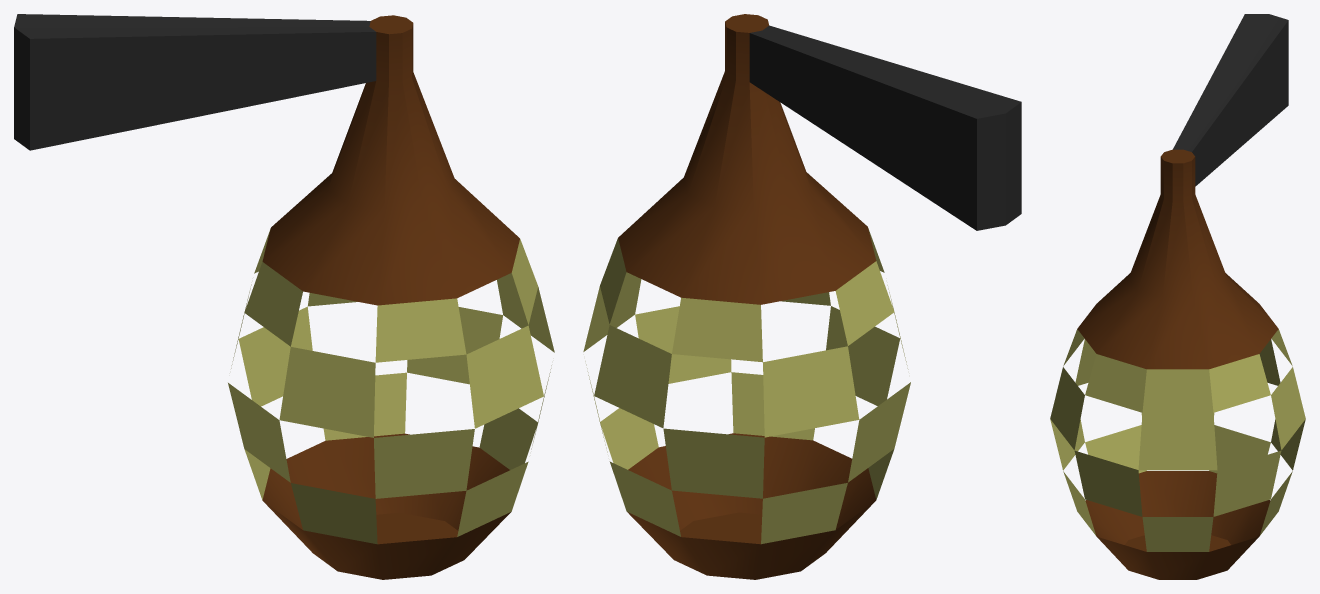
The model's file is Lampara.fbx.
3 views of the same model, side by side, from view 1: azimuth 30°, elevation 25°; view 2: azimuth 150°, elevation 25°; view 3: azimuth 270°, elevation 25° (orthographic). The views are drawn at different scales.
Parts seen in each view (by area): view 1: Luz, Arriba, Soporte, Abajo; view 2: Luz, Arriba, Soporte, Abajo; view 3: Luz, Arriba, Soporte, Abajo.
Boxes of the visible parts, x1=… form: Luz: x1=228, y1=229, x2=554, y2=544; Arriba: x1=262, y1=15, x2=519, y2=305; Soporte: x1=14, y1=14, x2=376, y2=150; Abajo: x1=262, y1=433, x2=510, y2=579; Luz: x1=583, y1=228, x2=910, y2=544; Arriba: x1=618, y1=14, x2=876, y2=304; Soporte: x1=749, y1=25, x2=1021, y2=230; Abajo: x1=627, y1=433, x2=876, y2=579; Luz: x1=1050, y1=329, x2=1305, y2=551; Arriba: x1=1077, y1=149, x2=1278, y2=369; Soporte: x1=1173, y1=14, x2=1288, y2=186; Abajo: x1=1085, y1=471, x2=1270, y2=579.
Size of the model in its own units: 399 by 463 by 254.
